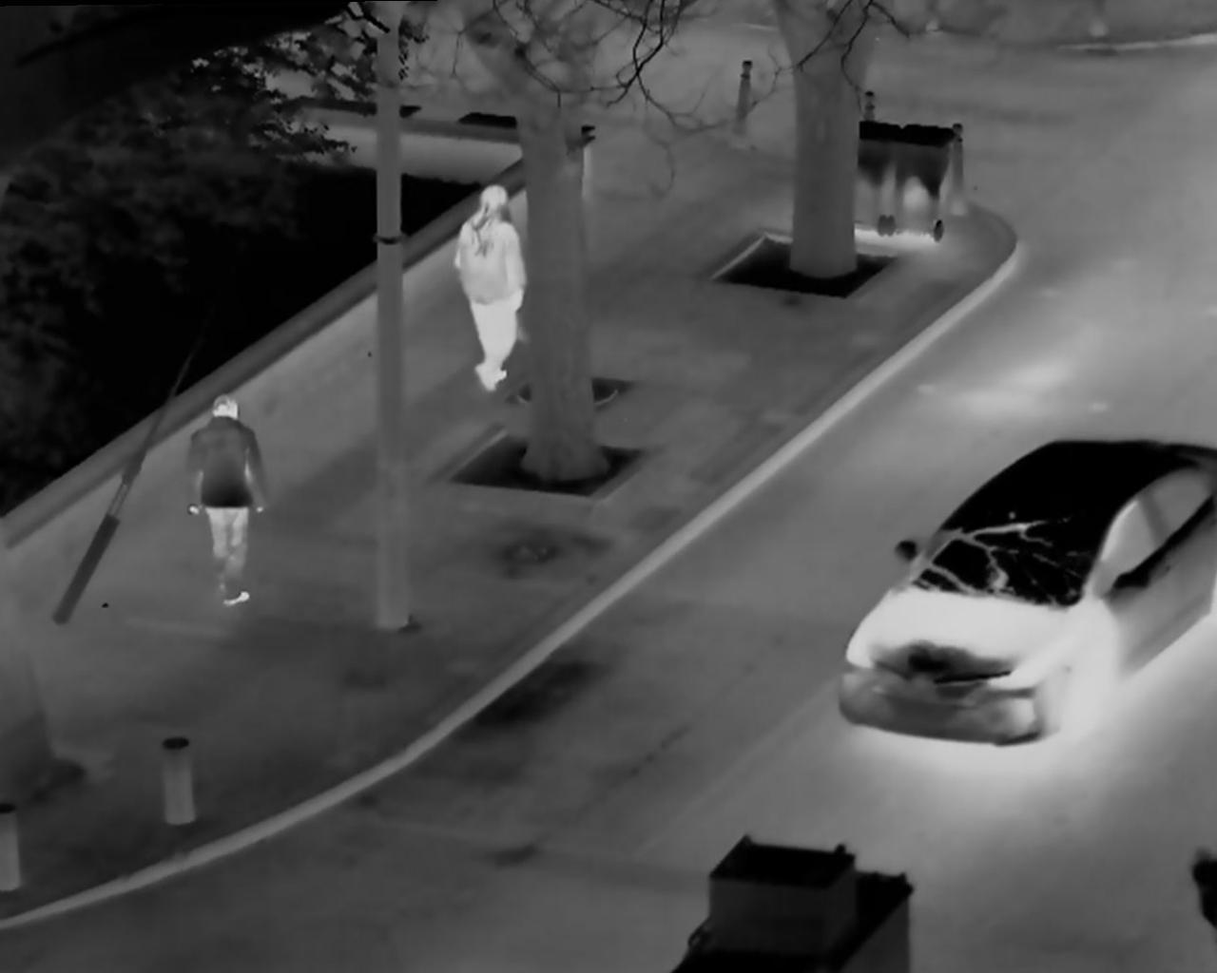person: (175, 377, 284, 630), (440, 165, 533, 396)
